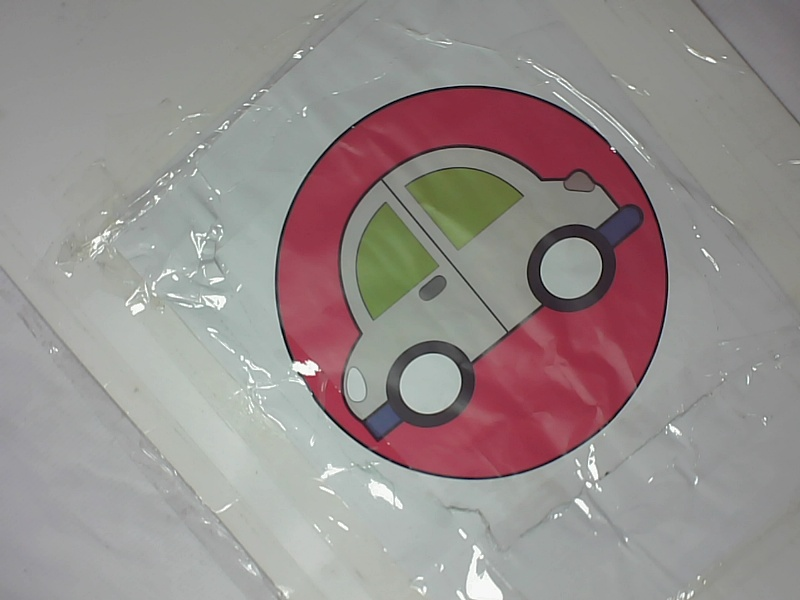areaC: (263, 80, 686, 494)
